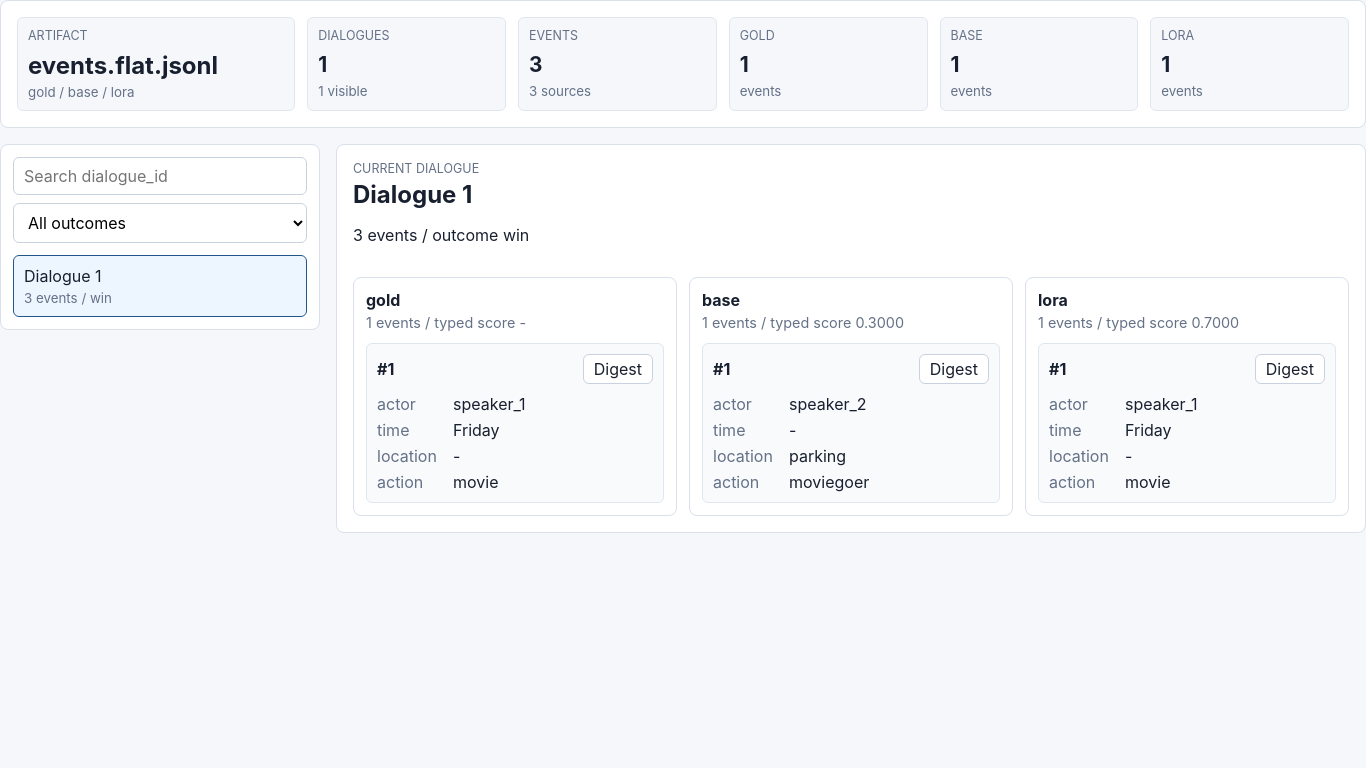
FlatEventsWorkbench › shows detailed fields first and expands digest on click
The width and height of the screenshot is (1366, 768).
Expected: the 1st text "actor" is shown, x1=377 y1=394 x2=416 y2=414
Expected: the 1st text "speaker_1" is shown, x1=453 y1=394 x2=526 y2=414
Click the button with aria-label "show digest for gold event 1": (618, 369) x1=583 y1=354 x2=653 y2=384
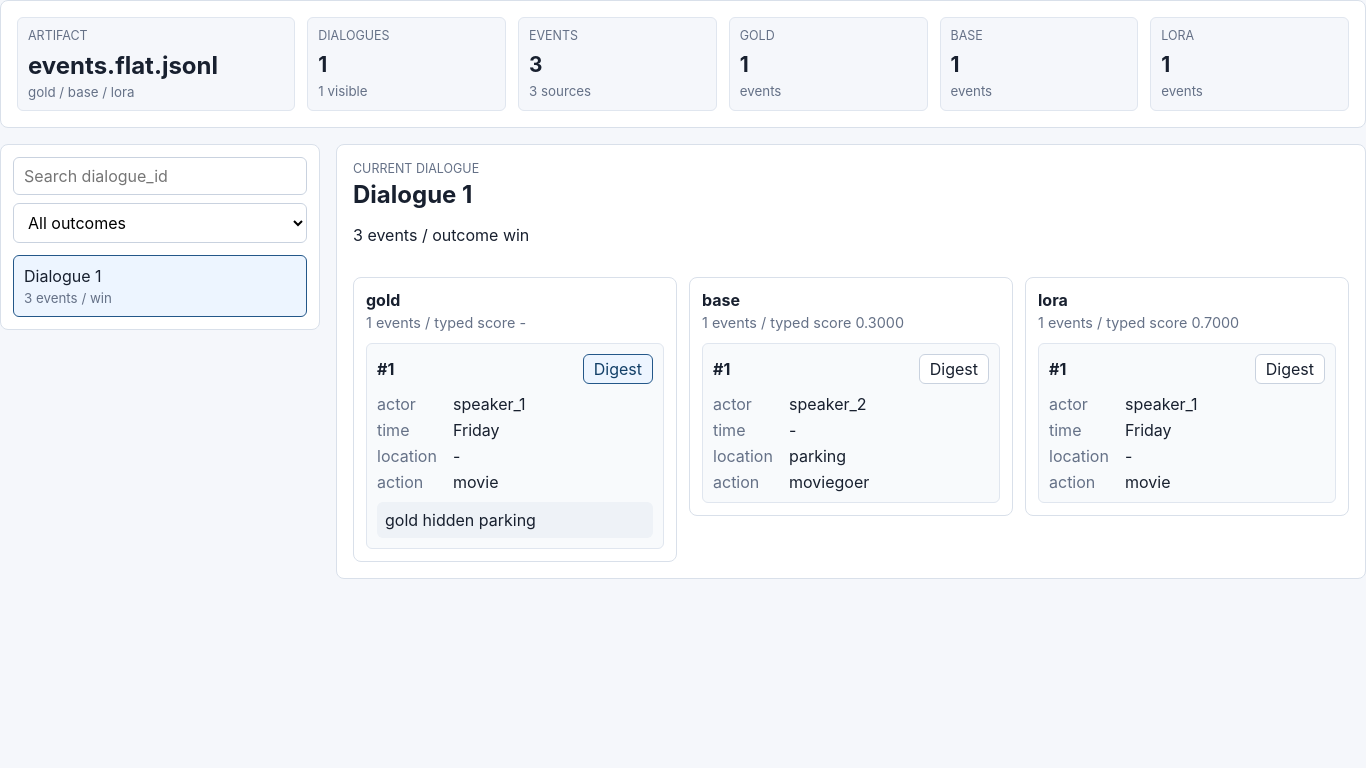
Now the text "gold hidden parking" is shown, box x1=377 y1=502 x2=653 y2=538
